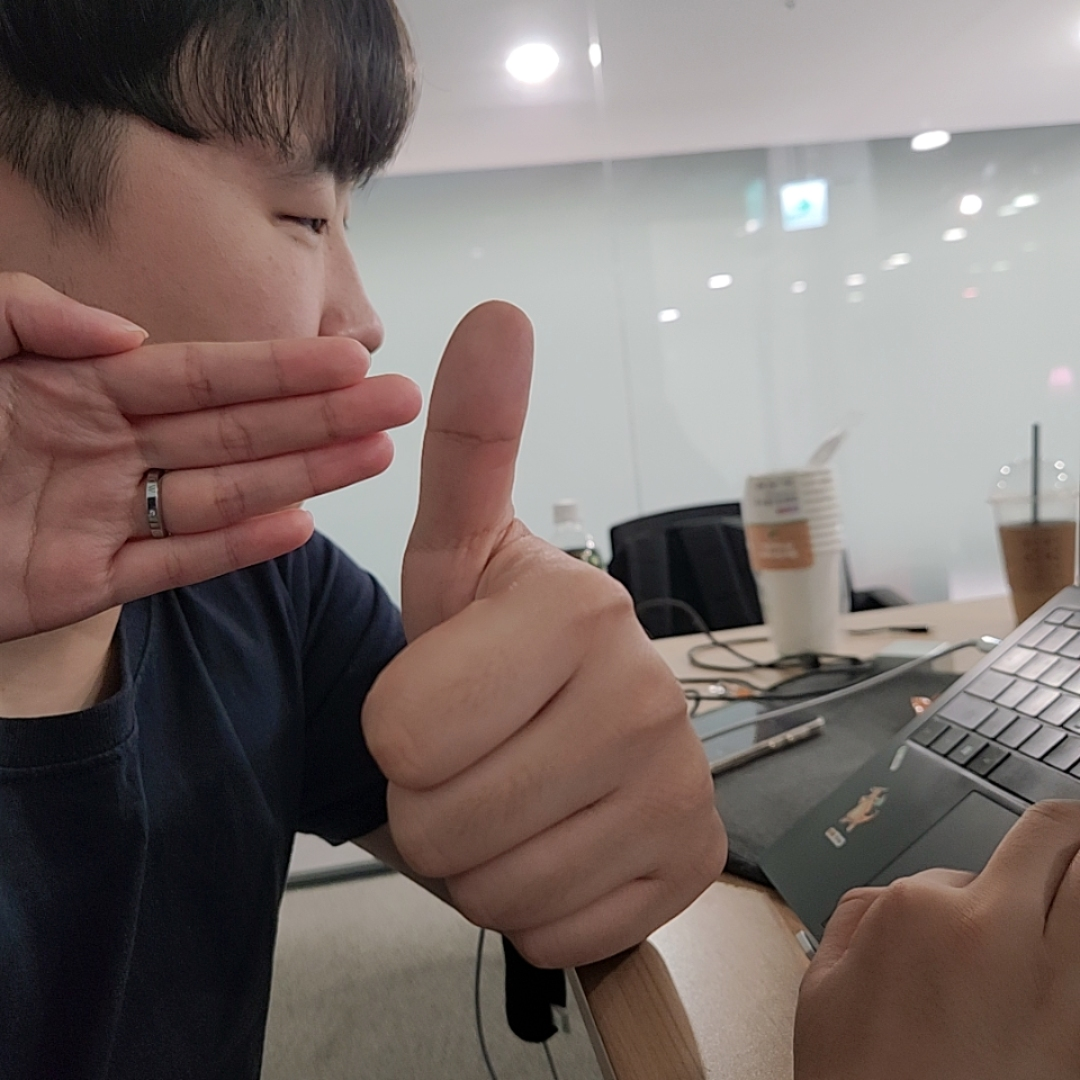best: (364, 302, 733, 972)
